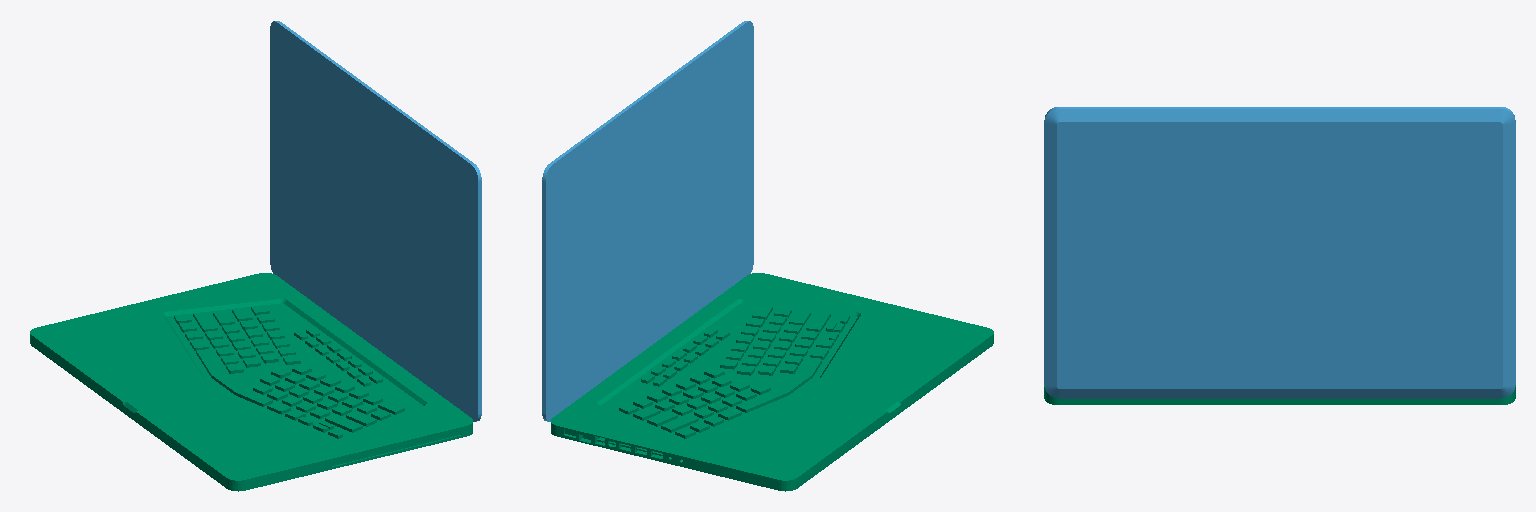
The robot description file, URDF, robot "partnet_afa49e97861c45e5e738f481f8560d58":
<?xml version="1.0" ?>
<robot name="partnet_afa49e97861c45e5e738f481f8560d58">
	<link name="base"/>
	<link name="link_0">
		<visual name="screen-10">
			<origin xyz="0 0.22 0.245"/>
			<geometry>
				<mesh filename="textured_objs/new-3.obj"/>
			</geometry>
		</visual>
		<visual name="screen_frame-11">
			<origin xyz="0 0.22 0.245"/>
			<geometry>
				<mesh filename="textured_objs/new-4.obj"/>
			</geometry>
		</visual>
		<collision>
			<origin xyz="0 0.22 0.245"/>
			<geometry>
				<mesh filename="textured_objs/new-3.obj"/>
			</geometry>
		</collision>
		<collision>
			<origin xyz="0 0.22 0.245"/>
			<geometry>
				<mesh filename="textured_objs/new-4.obj"/>
			</geometry>
		</collision>
	</link>
	<joint name="joint_0" type="revolute">
		<origin xyz="0 -0.22 -0.245"/>
		<axis xyz="-1 0 0"/>
		<child link="link_0"/>
		<parent link="link_1"/>
		<limit lower="-1.5707963267948966" upper="0.9550441666912975"/>
	</joint>
	<link name="link_1">
		<visual name="keyboard-3">
			<origin xyz="0 0 0"/>
			<geometry>
				<mesh filename="textured_objs/original-71.obj"/>
			</geometry>
		</visual>
		<visual name="keyboard-3">
			<origin xyz="0 0 0"/>
			<geometry>
				<mesh filename="textured_objs/original-70.obj"/>
			</geometry>
		</visual>
		<visual name="keyboard-3">
			<origin xyz="0 0 0"/>
			<geometry>
				<mesh filename="textured_objs/original-74.obj"/>
			</geometry>
		</visual>
		<visual name="keyboard-3">
			<origin xyz="0 0 0"/>
			<geometry>
				<mesh filename="textured_objs/original-69.obj"/>
			</geometry>
		</visual>
		<visual name="keyboard-3">
			<origin xyz="0 0 0"/>
			<geometry>
				<mesh filename="textured_objs/original-68.obj"/>
			</geometry>
		</visual>
		<visual name="keyboard-3">
			<origin xyz="0 0 0"/>
			<geometry>
				<mesh filename="textured_objs/original-75.obj"/>
			</geometry>
		</visual>
		<visual name="keyboard-3">
			<origin xyz="0 0 0"/>
			<geometry>
				<mesh filename="textured_objs/original-76.obj"/>
			</geometry>
		</visual>
		<visual name="keyboard-3">
			<origin xyz="0 0 0"/>
			<geometry>
				<mesh filename="textured_objs/original-79.obj"/>
			</geometry>
		</visual>
		<visual name="keyboard-3">
			<origin xyz="0 0 0"/>
			<geometry>
				<mesh filename="textured_objs/original-78.obj"/>
			</geometry>
		</visual>
		<visual name="keyboard-3">
			<origin xyz="0 0 0"/>
			<geometry>
				<mesh filename="textured_objs/original-80.obj"/>
			</geometry>
		</visual>
		<visual name="keyboard-3">
			<origin xyz="0 0 0"/>
			<geometry>
				<mesh filename="textured_objs/original-81.obj"/>
			</geometry>
		</visual>
		<visual name="keyboard-3">
			<origin xyz="0 0 0"/>
			<geometry>
				<mesh filename="textured_objs/original-77.obj"/>
			</geometry>
		</visual>
		<visual name="keyboard-3">
			<origin xyz="0 0 0"/>
			<geometry>
				<mesh filename="textured_objs/original-73.obj"/>
			</geometry>
		</visual>
		<visual name="keyboard-3">
			<origin xyz="0 0 0"/>
			<geometry>
				<mesh filename="textured_objs/original-72.obj"/>
			</geometry>
		</visual>
		<visual name="keyboard-3">
			<origin xyz="0 0 0"/>
			<geometry>
				<mesh filename="textured_objs/original-22.obj"/>
			</geometry>
		</visual>
		<visual name="keyboard-3">
			<origin xyz="0 0 0"/>
			<geometry>
				<mesh filename="textured_objs/original-4.obj"/>
			</geometry>
		</visual>
		<visual name="keyboard-3">
			<origin xyz="0 0 0"/>
			<geometry>
				<mesh filename="textured_objs/original-20.obj"/>
			</geometry>
		</visual>
		<visual name="keyboard-3">
			<origin xyz="0 0 0"/>
			<geometry>
				<mesh filename="textured_objs/original-19.obj"/>
			</geometry>
		</visual>
		<visual name="keyboard-3">
			<origin xyz="0 0 0"/>
			<geometry>
				<mesh filename="textured_objs/original-18.obj"/>
			</geometry>
		</visual>
		<visual name="keyboard-3">
			<origin xyz="0 0 0"/>
			<geometry>
				<mesh filename="textured_objs/original-17.obj"/>
			</geometry>
		</visual>
		<visual name="keyboard-3">
			<origin xyz="0 0 0"/>
			<geometry>
				<mesh filename="textured_objs/original-10.obj"/>
			</geometry>
		</visual>
		<visual name="keyboard-3">
			<origin xyz="0 0 0"/>
			<geometry>
				<mesh filename="textured_objs/original-12.obj"/>
			</geometry>
		</visual>
		<visual name="keyboard-3">
			<origin xyz="0 0 0"/>
			<geometry>
				<mesh filename="textured_objs/original-6.obj"/>
			</geometry>
		</visual>
		<visual name="keyboard-3">
			<origin xyz="0 0 0"/>
			<geometry>
				<mesh filename="textured_objs/original-8.obj"/>
			</geometry>
		</visual>
		<visual name="keyboard-3">
			<origin xyz="0 0 0"/>
			<geometry>
				<mesh filename="textured_objs/original-5.obj"/>
			</geometry>
		</visual>
		<visual name="keyboard-3">
			<origin xyz="0 0 0"/>
			<geometry>
				<mesh filename="textured_objs/original-7.obj"/>
			</geometry>
		</visual>
		<visual name="keyboard-3">
			<origin xyz="0 0 0"/>
			<geometry>
				<mesh filename="textured_objs/original-9.obj"/>
			</geometry>
		</visual>
		<visual name="keyboard-3">
			<origin xyz="0 0 0"/>
			<geometry>
				<mesh filename="textured_objs/original-29.obj"/>
			</geometry>
		</visual>
		<visual name="keyboard-3">
			<origin xyz="0 0 0"/>
			<geometry>
				<mesh filename="textured_objs/new-0.obj"/>
			</geometry>
		</visual>
		<visual name="keyboard-3">
			<origin xyz="0 0 0"/>
			<geometry>
				<mesh filename="textured_objs/original-28.obj"/>
			</geometry>
		</visual>
		<visual name="keyboard-3">
			<origin xyz="0 0 0"/>
			<geometry>
				<mesh filename="textured_objs/original-32.obj"/>
			</geometry>
		</visual>
		<visual name="keyboard-3">
			<origin xyz="0 0 0"/>
			<geometry>
				<mesh filename="textured_objs/original-31.obj"/>
			</geometry>
		</visual>
		<visual name="keyboard-3">
			<origin xyz="0 0 0"/>
			<geometry>
				<mesh filename="textured_objs/original-30.obj"/>
			</geometry>
		</visual>
		<visual name="keyboard-3">
			<origin xyz="0 0 0"/>
			<geometry>
				<mesh filename="textured_objs/original-13.obj"/>
			</geometry>
		</visual>
		<visual name="keyboard-3">
			<origin xyz="0 0 0"/>
			<geometry>
				<mesh filename="textured_objs/original-11.obj"/>
			</geometry>
		</visual>
		<visual name="keyboard-3">
			<origin xyz="0 0 0"/>
			<geometry>
				<mesh filename="textured_objs/original-25.obj"/>
			</geometry>
		</visual>
		<visual name="keyboard-3">
			<origin xyz="0 0 0"/>
			<geometry>
				<mesh filename="textured_objs/original-26.obj"/>
			</geometry>
		</visual>
		<visual name="keyboard-3">
			<origin xyz="0 0 0"/>
			<geometry>
				<mesh filename="textured_objs/original-21.obj"/>
			</geometry>
		</visual>
		<visual name="keyboard-3">
			<origin xyz="0 0 0"/>
			<geometry>
				<mesh filename="textured_objs/original-23.obj"/>
			</geometry>
		</visual>
		<visual name="keyboard-3">
			<origin xyz="0 0 0"/>
			<geometry>
				<mesh filename="textured_objs/original-24.obj"/>
			</geometry>
		</visual>
		<visual name="keyboard-3">
			<origin xyz="0 0 0"/>
			<geometry>
				<mesh filename="textured_objs/original-82.obj"/>
			</geometry>
		</visual>
		<visual name="keyboard-3">
			<origin xyz="0 0 0"/>
			<geometry>
				<mesh filename="textured_objs/original-27.obj"/>
			</geometry>
		</visual>
		<visual name="keyboard-3">
			<origin xyz="0 0 0"/>
			<geometry>
				<mesh filename="textured_objs/original-16.obj"/>
			</geometry>
		</visual>
		<visual name="keyboard-3">
			<origin xyz="0 0 0"/>
			<geometry>
				<mesh filename="textured_objs/original-14.obj"/>
			</geometry>
		</visual>
		<visual name="keyboard-3">
			<origin xyz="0 0 0"/>
			<geometry>
				<mesh filename="textured_objs/original-15.obj"/>
			</geometry>
		</visual>
		<visual name="keyboard-3">
			<origin xyz="0 0 0"/>
			<geometry>
				<mesh filename="textured_objs/original-34.obj"/>
			</geometry>
		</visual>
		<visual name="keyboard-3">
			<origin xyz="0 0 0"/>
			<geometry>
				<mesh filename="textured_objs/original-57.obj"/>
			</geometry>
		</visual>
		<visual name="keyboard-3">
			<origin xyz="0 0 0"/>
			<geometry>
				<mesh filename="textured_objs/original-64.obj"/>
			</geometry>
		</visual>
		<visual name="keyboard-3">
			<origin xyz="0 0 0"/>
			<geometry>
				<mesh filename="textured_objs/original-55.obj"/>
			</geometry>
		</visual>
		<visual name="keyboard-3">
			<origin xyz="0 0 0"/>
			<geometry>
				<mesh filename="textured_objs/original-45.obj"/>
			</geometry>
		</visual>
		<visual name="keyboard-3">
			<origin xyz="0 0 0"/>
			<geometry>
				<mesh filename="textured_objs/original-50.obj"/>
			</geometry>
		</visual>
		<visual name="keyboard-3">
			<origin xyz="0 0 0"/>
			<geometry>
				<mesh filename="textured_objs/original-58.obj"/>
			</geometry>
		</visual>
		<visual name="keyboard-3">
			<origin xyz="0 0 0"/>
			<geometry>
				<mesh filename="textured_objs/original-35.obj"/>
			</geometry>
		</visual>
		<visual name="keyboard-3">
			<origin xyz="0 0 0"/>
			<geometry>
				<mesh filename="textured_objs/original-36.obj"/>
			</geometry>
		</visual>
		<visual name="keyboard-3">
			<origin xyz="0 0 0"/>
			<geometry>
				<mesh filename="textured_objs/original-37.obj"/>
			</geometry>
		</visual>
		<visual name="keyboard-3">
			<origin xyz="0 0 0"/>
			<geometry>
				<mesh filename="textured_objs/original-38.obj"/>
			</geometry>
		</visual>
		<visual name="keyboard-3">
			<origin xyz="0 0 0"/>
			<geometry>
				<mesh filename="textured_objs/original-39.obj"/>
			</geometry>
		</visual>
		<visual name="keyboard-3">
			<origin xyz="0 0 0"/>
			<geometry>
				<mesh filename="textured_objs/original-42.obj"/>
			</geometry>
		</visual>
		<visual name="keyboard-3">
			<origin xyz="0 0 0"/>
			<geometry>
				<mesh filename="textured_objs/original-49.obj"/>
			</geometry>
		</visual>
		<visual name="keyboard-3">
			<origin xyz="0 0 0"/>
			<geometry>
				<mesh filename="textured_objs/original-63.obj"/>
			</geometry>
		</visual>
		<visual name="keyboard-3">
			<origin xyz="0 0 0"/>
			<geometry>
				<mesh filename="textured_objs/original-62.obj"/>
			</geometry>
		</visual>
		<visual name="keyboard-3">
			<origin xyz="0 0 0"/>
			<geometry>
				<mesh filename="textured_objs/original-61.obj"/>
			</geometry>
		</visual>
		<visual name="keyboard-3">
			<origin xyz="0 0 0"/>
			<geometry>
				<mesh filename="textured_objs/original-60.obj"/>
			</geometry>
		</visual>
		<visual name="keyboard-3">
			<origin xyz="0 0 0"/>
			<geometry>
				<mesh filename="textured_objs/original-59.obj"/>
			</geometry>
		</visual>
		<visual name="keyboard-3">
			<origin xyz="0 0 0"/>
			<geometry>
				<mesh filename="textured_objs/original-51.obj"/>
			</geometry>
		</visual>
		<visual name="keyboard-3">
			<origin xyz="0 0 0"/>
			<geometry>
				<mesh filename="textured_objs/original-52.obj"/>
			</geometry>
		</visual>
		<visual name="keyboard-3">
			<origin xyz="0 0 0"/>
			<geometry>
				<mesh filename="textured_objs/original-53.obj"/>
			</geometry>
		</visual>
		<visual name="keyboard-3">
			<origin xyz="0 0 0"/>
			<geometry>
				<mesh filename="textured_objs/original-54.obj"/>
			</geometry>
		</visual>
		<visual name="keyboard-3">
			<origin xyz="0 0 0"/>
			<geometry>
				<mesh filename="textured_objs/original-41.obj"/>
			</geometry>
		</visual>
		<visual name="keyboard-3">
			<origin xyz="0 0 0"/>
			<geometry>
				<mesh filename="textured_objs/original-40.obj"/>
			</geometry>
		</visual>
		<visual name="keyboard-3">
			<origin xyz="0 0 0"/>
			<geometry>
				<mesh filename="textured_objs/original-66.obj"/>
			</geometry>
		</visual>
		<visual name="keyboard-3">
			<origin xyz="0 0 0"/>
			<geometry>
				<mesh filename="textured_objs/original-44.obj"/>
			</geometry>
		</visual>
		<visual name="keyboard-3">
			<origin xyz="0 0 0"/>
			<geometry>
				<mesh filename="textured_objs/original-65.obj"/>
			</geometry>
		</visual>
		<visual name="keyboard-3">
			<origin xyz="0 0 0"/>
			<geometry>
				<mesh filename="textured_objs/original-43.obj"/>
			</geometry>
		</visual>
		<visual name="keyboard-3">
			<origin xyz="0 0 0"/>
			<geometry>
				<mesh filename="textured_objs/original-56.obj"/>
			</geometry>
		</visual>
		<visual name="keyboard-3">
			<origin xyz="0 0 0"/>
			<geometry>
				<mesh filename="textured_objs/original-46.obj"/>
			</geometry>
		</visual>
		<visual name="keyboard-3">
			<origin xyz="0 0 0"/>
			<geometry>
				<mesh filename="textured_objs/original-47.obj"/>
			</geometry>
		</visual>
		<visual name="keyboard-3">
			<origin xyz="0 0 0"/>
			<geometry>
				<mesh filename="textured_objs/original-48.obj"/>
			</geometry>
		</visual>
		<visual name="touchpad_surface-6">
			<origin xyz="0 0 0"/>
			<geometry>
				<mesh filename="textured_objs/new-1.obj"/>
			</geometry>
		</visual>
		<visual name="base_frame-5">
			<origin xyz="0 0 0"/>
			<geometry>
				<mesh filename="textured_objs/new-2.obj"/>
			</geometry>
		</visual>
		<collision>
			<origin xyz="0 0 0"/>
			<geometry>
				<mesh filename="textured_objs/original-71.obj"/>
			</geometry>
		</collision>
		<collision>
			<origin xyz="0 0 0"/>
			<geometry>
				<mesh filename="textured_objs/original-70.obj"/>
			</geometry>
		</collision>
		<collision>
			<origin xyz="0 0 0"/>
			<geometry>
				<mesh filename="textured_objs/original-74.obj"/>
			</geometry>
		</collision>
		<collision>
			<origin xyz="0 0 0"/>
			<geometry>
				<mesh filename="textured_objs/original-69.obj"/>
			</geometry>
		</collision>
		<collision>
			<origin xyz="0 0 0"/>
			<geometry>
				<mesh filename="textured_objs/original-68.obj"/>
			</geometry>
		</collision>
		<collision>
			<origin xyz="0 0 0"/>
			<geometry>
				<mesh filename="textured_objs/original-75.obj"/>
			</geometry>
		</collision>
		<collision>
			<origin xyz="0 0 0"/>
			<geometry>
				<mesh filename="textured_objs/original-76.obj"/>
			</geometry>
		</collision>
		<collision>
			<origin xyz="0 0 0"/>
			<geometry>
				<mesh filename="textured_objs/original-79.obj"/>
			</geometry>
		</collision>
		<collision>
			<origin xyz="0 0 0"/>
			<geometry>
				<mesh filename="textured_objs/original-78.obj"/>
			</geometry>
		</collision>
		<collision>
			<origin xyz="0 0 0"/>
			<geometry>
				<mesh filename="textured_objs/original-80.obj"/>
			</geometry>
		</collision>
		<collision>
			<origin xyz="0 0 0"/>
			<geometry>
				<mesh filename="textured_objs/original-81.obj"/>
			</geometry>
		</collision>
		<collision>
			<origin xyz="0 0 0"/>
			<geometry>
				<mesh filename="textured_objs/original-77.obj"/>
			</geometry>
		</collision>
		<collision>
			<origin xyz="0 0 0"/>
			<geometry>
				<mesh filename="textured_objs/original-73.obj"/>
			</geometry>
		</collision>
		<collision>
			<origin xyz="0 0 0"/>
			<geometry>
				<mesh filename="textured_objs/original-72.obj"/>
			</geometry>
		</collision>
		<collision>
			<origin xyz="0 0 0"/>
			<geometry>
				<mesh filename="textured_objs/original-22.obj"/>
			</geometry>
		</collision>
		<collision>
			<origin xyz="0 0 0"/>
			<geometry>
				<mesh filename="textured_objs/original-4.obj"/>
			</geometry>
		</collision>
		<collision>
			<origin xyz="0 0 0"/>
			<geometry>
				<mesh filename="textured_objs/original-20.obj"/>
			</geometry>
		</collision>
		<collision>
			<origin xyz="0 0 0"/>
			<geometry>
				<mesh filename="textured_objs/original-19.obj"/>
			</geometry>
		</collision>
		<collision>
			<origin xyz="0 0 0"/>
			<geometry>
				<mesh filename="textured_objs/original-18.obj"/>
			</geometry>
		</collision>
		<collision>
			<origin xyz="0 0 0"/>
			<geometry>
				<mesh filename="textured_objs/original-17.obj"/>
			</geometry>
		</collision>
		<collision>
			<origin xyz="0 0 0"/>
			<geometry>
				<mesh filename="textured_objs/original-10.obj"/>
			</geometry>
		</collision>
		<collision>
			<origin xyz="0 0 0"/>
			<geometry>
				<mesh filename="textured_objs/original-12.obj"/>
			</geometry>
		</collision>
		<collision>
			<origin xyz="0 0 0"/>
			<geometry>
				<mesh filename="textured_objs/original-6.obj"/>
			</geometry>
		</collision>
		<collision>
			<origin xyz="0 0 0"/>
			<geometry>
				<mesh filename="textured_objs/original-8.obj"/>
			</geometry>
		</collision>
		<collision>
			<origin xyz="0 0 0"/>
			<geometry>
				<mesh filename="textured_objs/original-5.obj"/>
			</geometry>
		</collision>
		<collision>
			<origin xyz="0 0 0"/>
			<geometry>
				<mesh filename="textured_objs/original-7.obj"/>
			</geometry>
		</collision>
		<collision>
			<origin xyz="0 0 0"/>
			<geometry>
				<mesh filename="textured_objs/original-9.obj"/>
			</geometry>
		</collision>
		<collision>
			<origin xyz="0 0 0"/>
			<geometry>
				<mesh filename="textured_objs/original-29.obj"/>
			</geometry>
		</collision>
		<collision>
			<origin xyz="0 0 0"/>
			<geometry>
				<mesh filename="textured_objs/new-0.obj"/>
			</geometry>
		</collision>
		<collision>
			<origin xyz="0 0 0"/>
			<geometry>
				<mesh filename="textured_objs/original-28.obj"/>
			</geometry>
		</collision>
		<collision>
			<origin xyz="0 0 0"/>
			<geometry>
				<mesh filename="textured_objs/original-32.obj"/>
			</geometry>
		</collision>
		<collision>
			<origin xyz="0 0 0"/>
			<geometry>
				<mesh filename="textured_objs/original-31.obj"/>
			</geometry>
		</collision>
		<collision>
			<origin xyz="0 0 0"/>
			<geometry>
				<mesh filename="textured_objs/original-30.obj"/>
			</geometry>
		</collision>
		<collision>
			<origin xyz="0 0 0"/>
			<geometry>
				<mesh filename="textured_objs/original-13.obj"/>
			</geometry>
		</collision>
		<collision>
			<origin xyz="0 0 0"/>
			<geometry>
				<mesh filename="textured_objs/original-11.obj"/>
			</geometry>
		</collision>
		<collision>
			<origin xyz="0 0 0"/>
			<geometry>
				<mesh filename="textured_objs/original-25.obj"/>
			</geometry>
		</collision>
		<collision>
			<origin xyz="0 0 0"/>
			<geometry>
				<mesh filename="textured_objs/original-26.obj"/>
			</geometry>
		</collision>
		<collision>
			<origin xyz="0 0 0"/>
			<geometry>
				<mesh filename="textured_objs/original-21.obj"/>
			</geometry>
		</collision>
		<collision>
			<origin xyz="0 0 0"/>
			<geometry>
				<mesh filename="textured_objs/original-23.obj"/>
			</geometry>
		</collision>
		<collision>
			<origin xyz="0 0 0"/>
			<geometry>
				<mesh filename="textured_objs/original-24.obj"/>
			</geometry>
		</collision>
		<collision>
			<origin xyz="0 0 0"/>
			<geometry>
				<mesh filename="textured_objs/original-82.obj"/>
			</geometry>
		</collision>
		<collision>
			<origin xyz="0 0 0"/>
			<geometry>
				<mesh filename="textured_objs/original-27.obj"/>
			</geometry>
		</collision>
		<collision>
			<origin xyz="0 0 0"/>
			<geometry>
				<mesh filename="textured_objs/original-16.obj"/>
			</geometry>
		</collision>
		<collision>
			<origin xyz="0 0 0"/>
			<geometry>
				<mesh filename="textured_objs/original-14.obj"/>
			</geometry>
		</collision>
		<collision>
			<origin xyz="0 0 0"/>
			<geometry>
				<mesh filename="textured_objs/original-15.obj"/>
			</geometry>
		</collision>
		<collision>
			<origin xyz="0 0 0"/>
			<geometry>
				<mesh filename="textured_objs/original-34.obj"/>
			</geometry>
		</collision>
		<collision>
			<origin xyz="0 0 0"/>
			<geometry>
				<mesh filename="textured_objs/original-57.obj"/>
			</geometry>
		</collision>
		<collision>
			<origin xyz="0 0 0"/>
			<geometry>
				<mesh filename="textured_objs/original-64.obj"/>
			</geometry>
		</collision>
		<collision>
			<origin xyz="0 0 0"/>
			<geometry>
				<mesh filename="textured_objs/original-55.obj"/>
			</geometry>
		</collision>
		<collision>
			<origin xyz="0 0 0"/>
			<geometry>
				<mesh filename="textured_objs/original-45.obj"/>
			</geometry>
		</collision>
		<collision>
			<origin xyz="0 0 0"/>
			<geometry>
				<mesh filename="textured_objs/original-50.obj"/>
			</geometry>
		</collision>
		<collision>
			<origin xyz="0 0 0"/>
			<geometry>
				<mesh filename="textured_objs/original-58.obj"/>
			</geometry>
		</collision>
		<collision>
			<origin xyz="0 0 0"/>
			<geometry>
				<mesh filename="textured_objs/original-35.obj"/>
			</geometry>
		</collision>
		<collision>
			<origin xyz="0 0 0"/>
			<geometry>
				<mesh filename="textured_objs/original-36.obj"/>
			</geometry>
		</collision>
		<collision>
			<origin xyz="0 0 0"/>
			<geometry>
				<mesh filename="textured_objs/original-37.obj"/>
			</geometry>
		</collision>
		<collision>
			<origin xyz="0 0 0"/>
			<geometry>
				<mesh filename="textured_objs/original-38.obj"/>
			</geometry>
		</collision>
		<collision>
			<origin xyz="0 0 0"/>
			<geometry>
				<mesh filename="textured_objs/original-39.obj"/>
			</geometry>
		</collision>
		<collision>
			<origin xyz="0 0 0"/>
			<geometry>
				<mesh filename="textured_objs/original-42.obj"/>
			</geometry>
		</collision>
		<collision>
			<origin xyz="0 0 0"/>
			<geometry>
				<mesh filename="textured_objs/original-49.obj"/>
			</geometry>
		</collision>
		<collision>
			<origin xyz="0 0 0"/>
			<geometry>
				<mesh filename="textured_objs/original-63.obj"/>
			</geometry>
		</collision>
		<collision>
			<origin xyz="0 0 0"/>
			<geometry>
				<mesh filename="textured_objs/original-62.obj"/>
			</geometry>
		</collision>
		<collision>
			<origin xyz="0 0 0"/>
			<geometry>
				<mesh filename="textured_objs/original-61.obj"/>
			</geometry>
		</collision>
		<collision>
			<origin xyz="0 0 0"/>
			<geometry>
				<mesh filename="textured_objs/original-60.obj"/>
			</geometry>
		</collision>
		<collision>
			<origin xyz="0 0 0"/>
			<geometry>
				<mesh filename="textured_objs/original-59.obj"/>
			</geometry>
		</collision>
		<collision>
			<origin xyz="0 0 0"/>
			<geometry>
				<mesh filename="textured_objs/original-51.obj"/>
			</geometry>
		</collision>
		<collision>
			<origin xyz="0 0 0"/>
			<geometry>
				<mesh filename="textured_objs/original-52.obj"/>
			</geometry>
		</collision>
		<collision>
			<origin xyz="0 0 0"/>
			<geometry>
				<mesh filename="textured_objs/original-53.obj"/>
			</geometry>
		</collision>
		<collision>
			<origin xyz="0 0 0"/>
			<geometry>
				<mesh filename="textured_objs/original-54.obj"/>
			</geometry>
		</collision>
		<collision>
			<origin xyz="0 0 0"/>
			<geometry>
				<mesh filename="textured_objs/original-41.obj"/>
			</geometry>
		</collision>
		<collision>
			<origin xyz="0 0 0"/>
			<geometry>
				<mesh filename="textured_objs/original-40.obj"/>
			</geometry>
		</collision>
		<collision>
			<origin xyz="0 0 0"/>
			<geometry>
				<mesh filename="textured_objs/original-66.obj"/>
			</geometry>
		</collision>
		<collision>
			<origin xyz="0 0 0"/>
			<geometry>
				<mesh filename="textured_objs/original-44.obj"/>
			</geometry>
		</collision>
		<collision>
			<origin xyz="0 0 0"/>
			<geometry>
				<mesh filename="textured_objs/original-65.obj"/>
			</geometry>
		</collision>
		<collision>
			<origin xyz="0 0 0"/>
			<geometry>
				<mesh filename="textured_objs/original-43.obj"/>
			</geometry>
		</collision>
		<collision>
			<origin xyz="0 0 0"/>
			<geometry>
				<mesh filename="textured_objs/original-56.obj"/>
			</geometry>
		</collision>
		<collision>
			<origin xyz="0 0 0"/>
			<geometry>
				<mesh filename="textured_objs/original-46.obj"/>
			</geometry>
		</collision>
		<collision>
			<origin xyz="0 0 0"/>
			<geometry>
				<mesh filename="textured_objs/original-47.obj"/>
			</geometry>
		</collision>
		<collision>
			<origin xyz="0 0 0"/>
			<geometry>
				<mesh filename="textured_objs/original-48.obj"/>
			</geometry>
		</collision>
		<collision>
			<origin xyz="0 0 0"/>
			<geometry>
				<mesh filename="textured_objs/new-1.obj"/>
			</geometry>
		</collision>
		<collision>
			<origin xyz="0 0 0"/>
			<geometry>
				<mesh filename="textured_objs/new-2.obj"/>
			</geometry>
		</collision>
	</link>
	<joint name="joint_1" type="fixed">
		<origin rpy="1.570796326794897 0 -1.570796326794897" xyz="0 0 0"/>
		<child link="link_1"/>
		<parent link="base"/>
	</joint>
</robot>

--- Facts derived from the render (not from the file) ---
Views: 3 orthographic renders of the robot side by side, from view 1: azimuth 30°, elevation 25°; view 2: azimuth 150°, elevation 25°; view 3: azimuth 270°, elevation 25°.
Robot: partnet_afa49e97861c45e5e738f481f8560d58 — 3 links, 2 joints (1 revolute, 1 fixed); root link base; default pose: all joints at 0.
Links seen in each view (by area): view 1: link_1, link_0; view 2: link_1, link_0; view 3: link_0, link_1.
Boxes of the visible links, box(x1,y1,x2,y2) form: link_1: box(30, 273, 472, 491); link_0: box(270, 21, 481, 421); link_1: box(551, 273, 993, 491); link_0: box(542, 21, 753, 421); link_0: box(1044, 107, 1515, 398); link_1: box(1044, 385, 1515, 404).
Bounding box of the posed robot: 1.01 × 1.44 × 1.03 m (x, y, z).
82 mesh visuals loaded from 82 distinct referenced files (82 OBJ).
